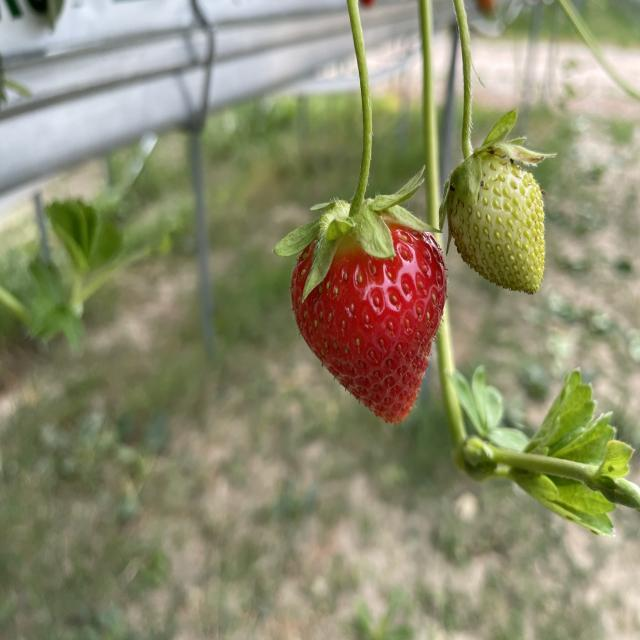stem: (274, 0, 435, 298), (454, 0, 555, 193)
strawberryNR: (450, 152, 545, 293)
strawberryR: (291, 224, 446, 423)
